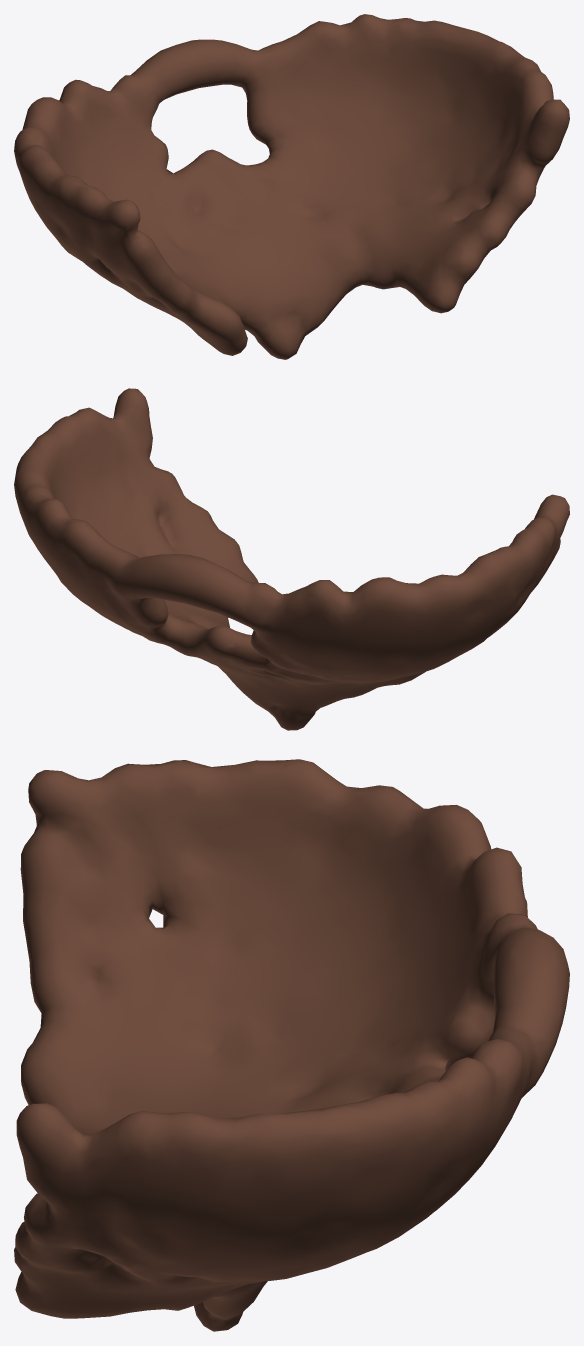
File: beard_full_f.glb
The picture shows the model from 3 angles, top to bottom: view 1: azimuth 30°, elevation 25°; view 2: azimuth 150°, elevation 25°; view 3: azimuth 270°, elevation 25°; orthographic projection. The views are drawn at different scales.
Parts seen in each view (by area): view 1: Acc_beard_full_Beard; view 2: Acc_beard_full_Beard; view 3: Acc_beard_full_Beard.
Boxes of the visible parts, x1=… form: Acc_beard_full_Beard: x1=14, y1=14, x2=569, y2=359; Acc_beard_full_Beard: x1=14, y1=388, x2=569, y2=730; Acc_beard_full_Beard: x1=14, y1=759, x2=569, y2=1331.
Size of the model in its own units: 0.4332 by 0.2118 by 0.2684.
